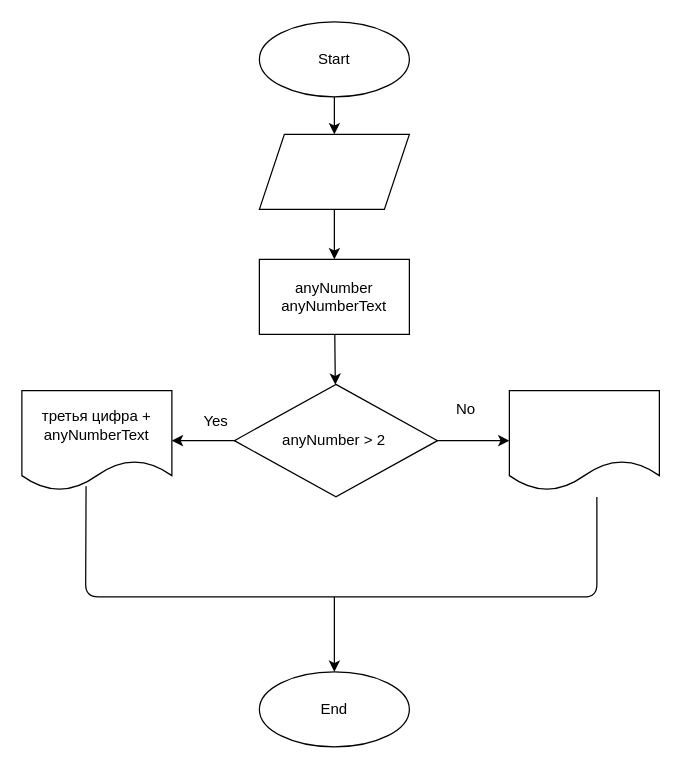
This 681x769 diagram has some shape labels left out. The centre of each missing label's shape, as x and y in pixels:
"Введите число" goes at pixel 333 171.
"третьей цифры нет" goes at pixel 583 440.
